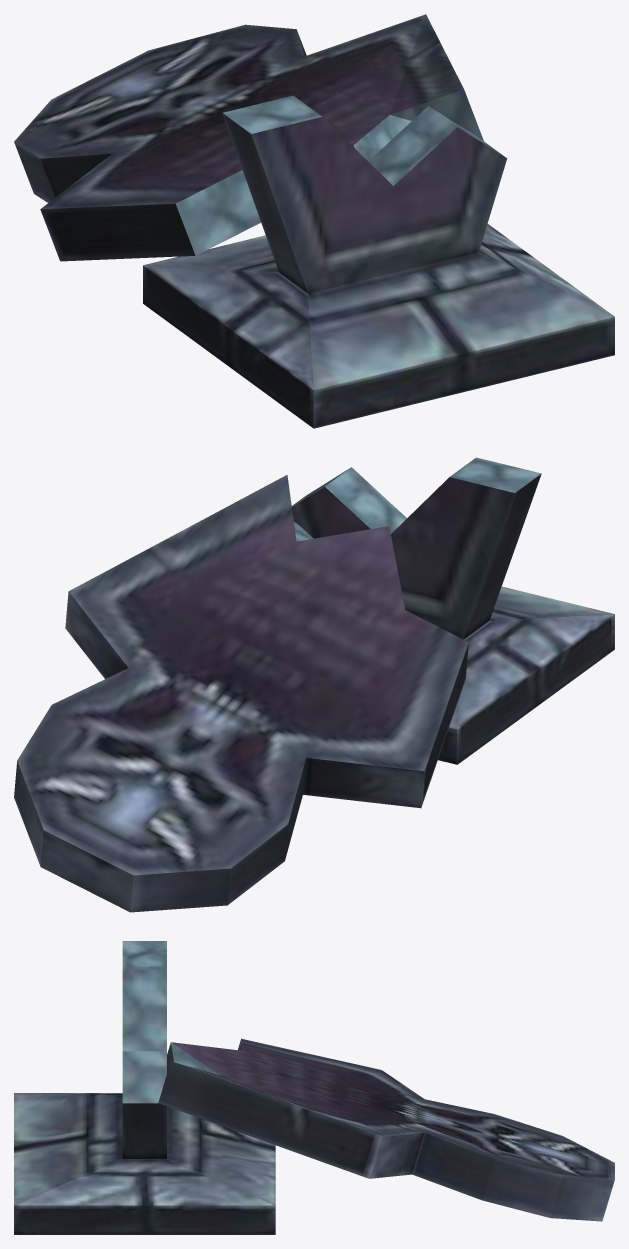
Rendered from grave_yard_1.fbx.
3 views of the same model, one above another, from view 1: azimuth 30°, elevation 25°; view 2: azimuth 150°, elevation 25°; view 3: azimuth 270°, elevation 25° (orthographic). The views are drawn at different scales.
Visible parts, largest first — view 1: mobile_rock_06.013; view 2: mobile_rock_06.013; view 3: mobile_rock_06.013.
Part boxes in pixels (x1,y1,x2,y2): mobile_rock_06.013: (14,14,614,428); mobile_rock_06.013: (14,457,614,912); mobile_rock_06.013: (14,941,614,1234).
Bounding box in the file's own units: 39.01 × 26.18 × 66.65.
